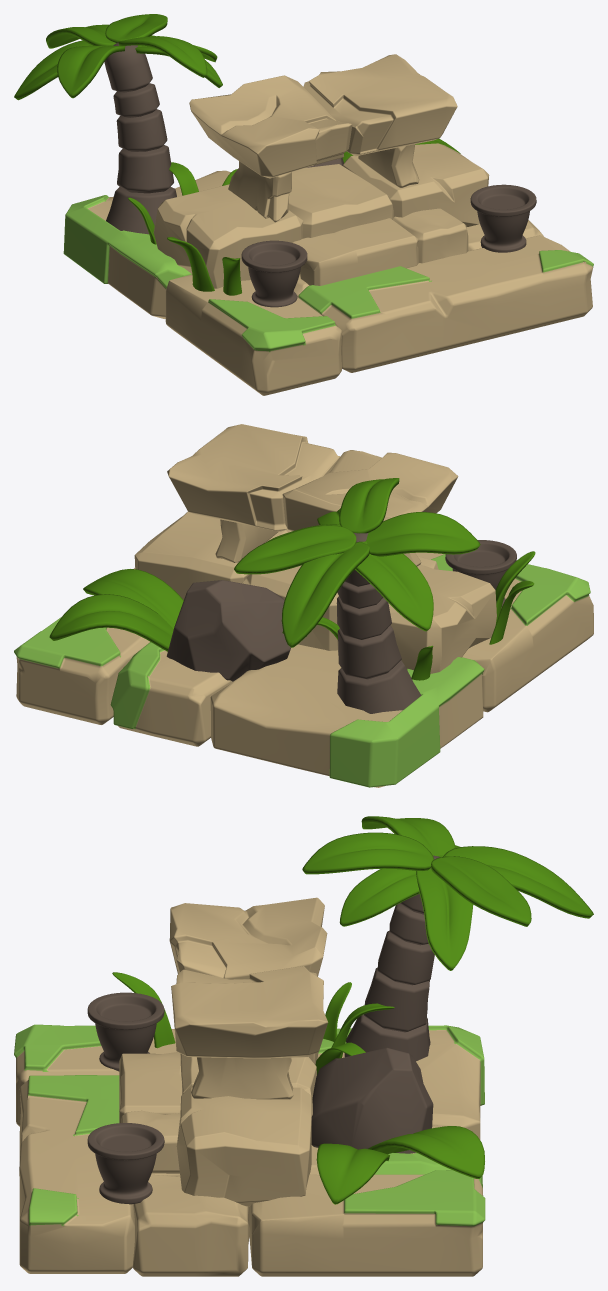
The model's file is Tile_Finish.fbx.
The picture shows the model from 3 angles, top to bottom: view 1: azimuth 30°, elevation 25°; view 2: azimuth 150°, elevation 25°; view 3: azimuth 270°, elevation 25°; orthographic projection. The views are drawn at different scales.
Parts seen in each view (by area): view 1: Cube.017; view 2: Cube.017; view 3: Cube.017.
Part boxes in pixels (x1=…): Cube.017: x1=14, y1=14, x2=593, y2=395; Cube.017: x1=14, y1=424, x2=593, y2=787; Cube.017: x1=14, y1=816, x2=593, y2=1276.
Size of the model in its own units: 227 by 134 by 251.
1 material, 1 textured.
